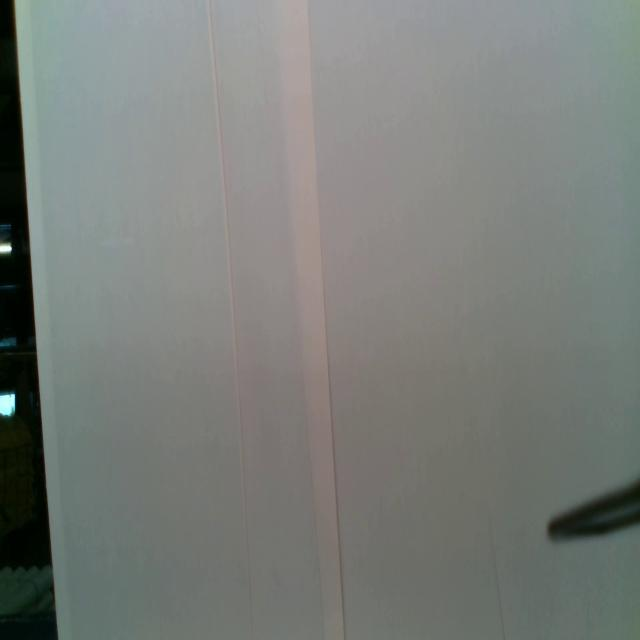crease: (280, 0, 348, 640), (207, 0, 254, 640), (489, 517, 507, 639)
